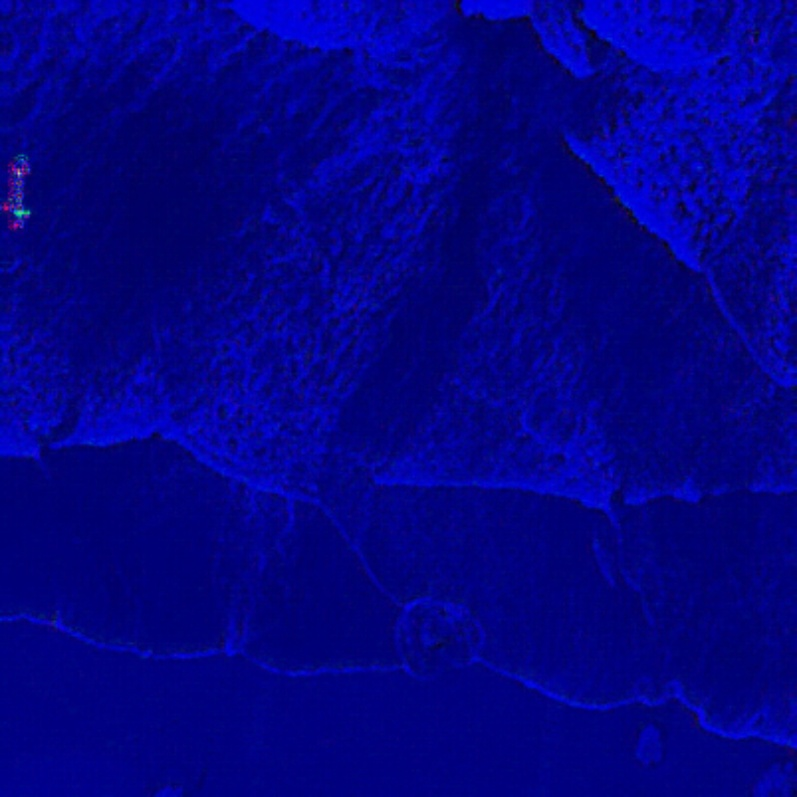rip_current: (303, 120, 562, 526)
